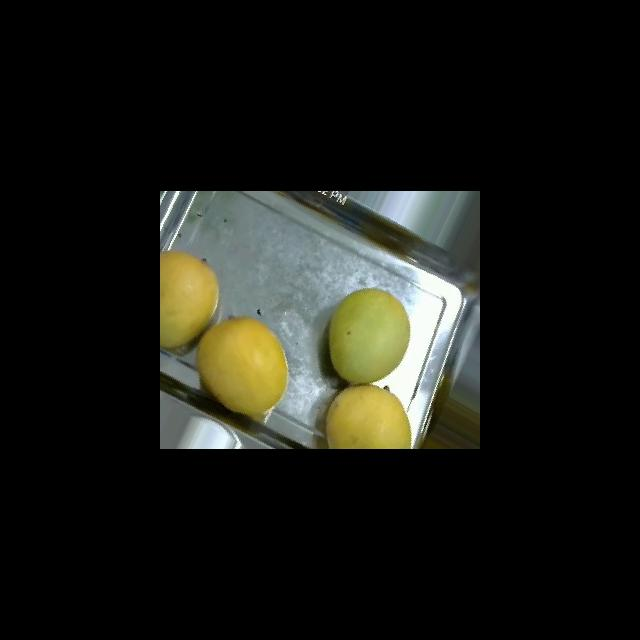mango: (196, 315, 288, 422), (327, 287, 410, 383), (160, 250, 219, 349), (325, 383, 411, 448)
